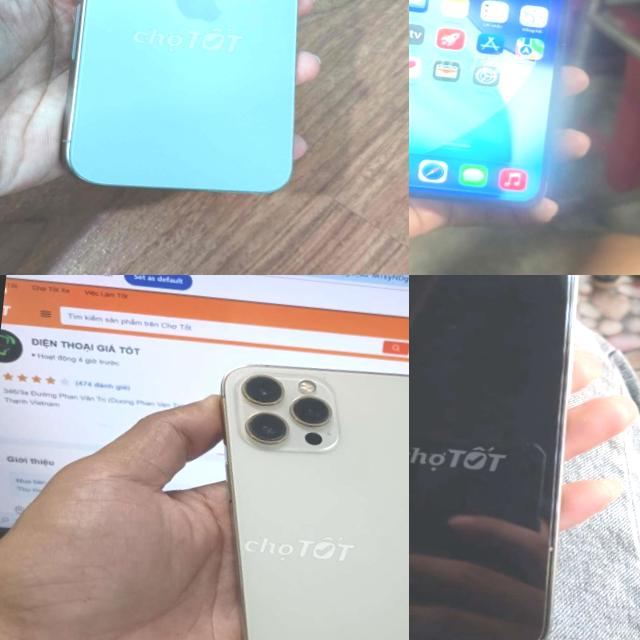gen_12_13: (179, 351, 409, 640), (409, 0, 595, 220)
gen_15: (409, 275, 617, 640), (39, 0, 343, 214)
scratch: (544, 542, 556, 553), (533, 637, 550, 640)
